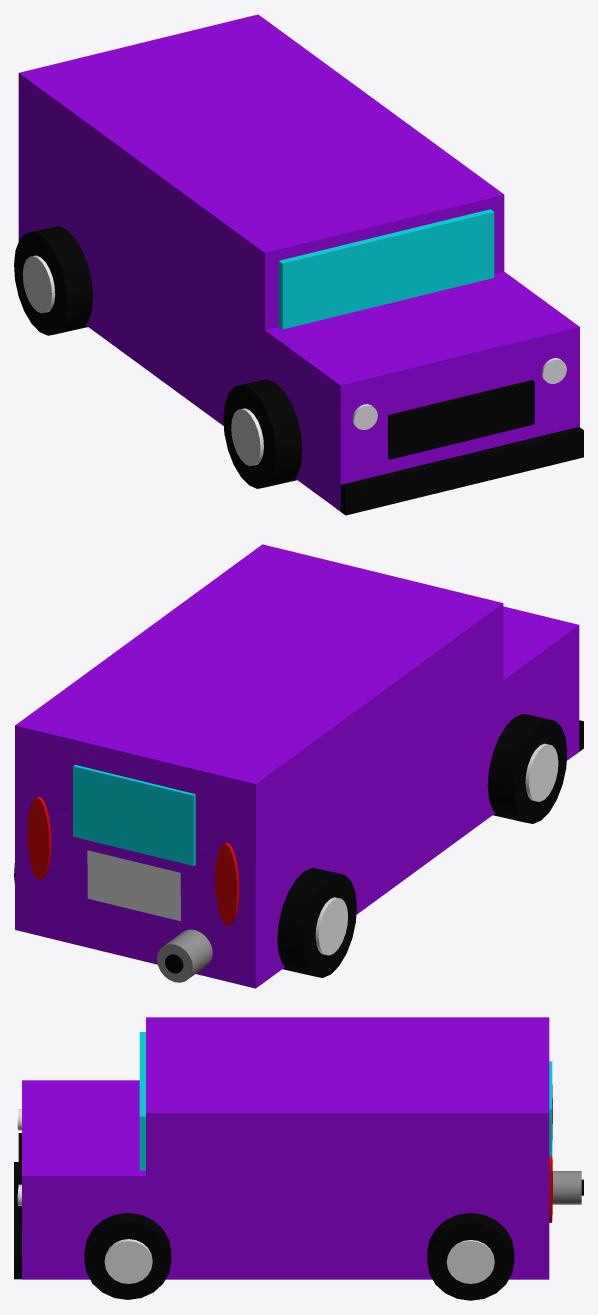
The model's file is MINIVAN.fbx.
The picture shows the model from 3 angles, top to bottom: view 1: azimuth 30°, elevation 25°; view 2: azimuth 150°, elevation 25°; view 3: azimuth 270°, elevation 25°; orthographic projection. The views are drawn at different scales.
Visible parts, largest first — view 1: pCube2, pCube1, pCube3, pCube6, pCube4, pCylinder2, pCylinder1, pCylinder8, pCylinder5; view 2: pCube2, pCube1, pCube5, pCylinder2, pCylinder1, pPlane1, pCylinder9, pCylinder15, pCylinder13, pCylinder8, pCylinder5; view 3: pCube2, pCube1, pCylinder3, pCylinder4, pCylinder7, pCylinder6, pCylinder9, pCube3, pCube6, pCube5.
Part boxes in pixels (left/top/right/bottom): pCube2: left=18, top=14, right=504, bottom=375; pCube1: left=18, top=150, right=579, bottom=511; pCube3: left=278, top=209, right=494, bottom=329; pCube6: left=336, top=427, right=583, bottom=515; pCube4: left=388, top=380, right=534, bottom=459; pCylinder2: left=14, top=226, right=93, bottom=335; pCylinder1: left=223, top=379, right=302, bottom=488; pCylinder8: left=231, top=408, right=263, bottom=466; pCylinder5: left=22, top=255, right=55, bottom=313; pCube2: left=15, top=544, right=503, bottom=910; pCube1: left=15, top=606, right=579, bottom=988; pCube5: left=73, top=765, right=195, bottom=865; pCylinder2: left=277, top=867, right=356, bottom=977; pCylinder1: left=487, top=714, right=567, bottom=823; pPlane1: left=87, top=850, right=180, bottom=921; pCylinder9: left=157, top=929, right=212, bottom=982; pCylinder15: left=215, top=842, right=239, bottom=925; pCylinder13: left=27, top=796, right=51, bottom=879; pCylinder8: left=525, top=743, right=558, bottom=801; pCylinder5: left=315, top=897, right=347, bottom=955; pCube2: left=146, top=1017, right=549, bottom=1216; pCube1: left=22, top=1080, right=549, bottom=1279; pCylinder3: left=427, top=1213, right=514, bottom=1300; pCylinder4: left=84, top=1213, right=171, bottom=1299; pCylinder7: left=104, top=1239, right=152, bottom=1283; pCylinder6: left=446, top=1240, right=494, bottom=1283; pCylinder9: left=552, top=1171, right=581, bottom=1204; pCube3: left=139, top=1032, right=145, bottom=1170; pCube6: left=14, top=1162, right=21, bottom=1279; pCube5: left=549, top=1061, right=552, bottom=1156.
Size of the model in its own units: 6.37 by 4.51 by 13.
